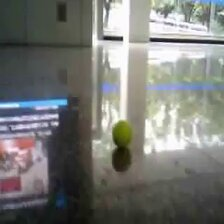tennis: (111, 121, 132, 147)
